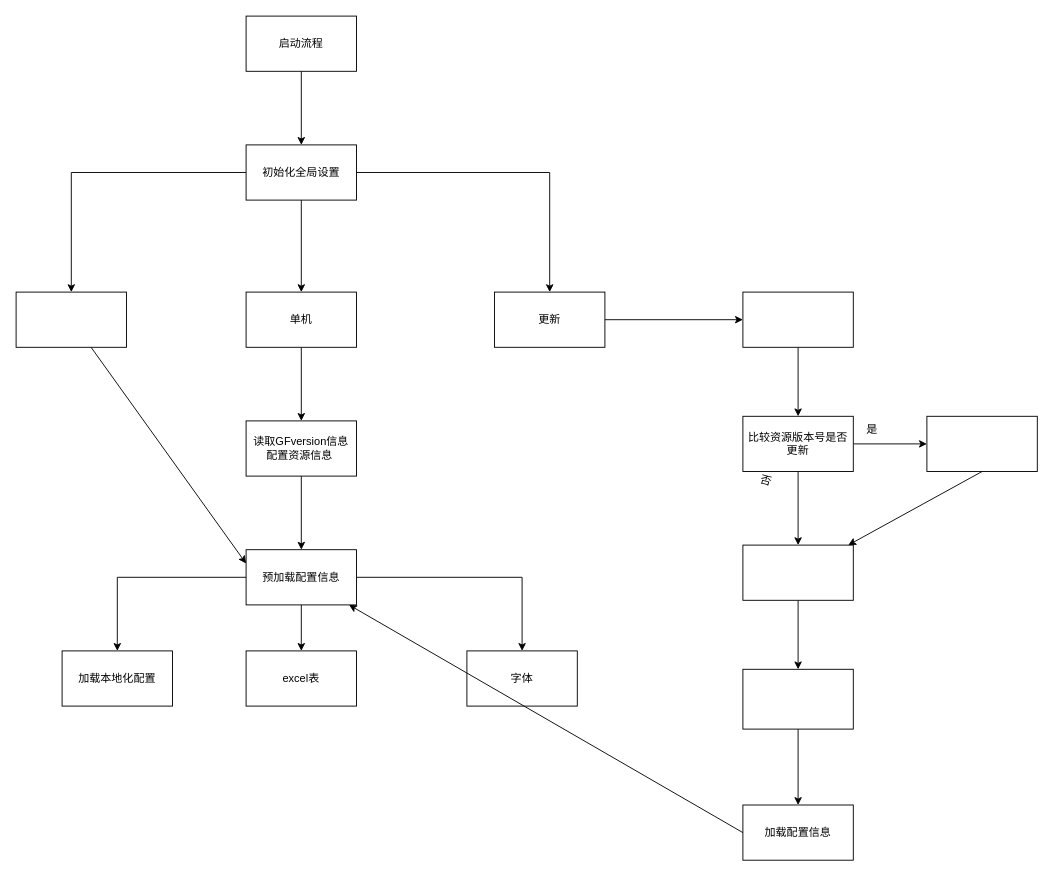
The diagram is 1053 pixels wide and 877 high, and some of its shapes have lost their labels. Each missing label, with the centre of its shape:
"下载服务器版本信息" belongs at pixel 797 319.
"加载本地，persist,服务器versionlist ，更新versionlist" belongs at pixel 797 572.
"更新version 信息" belongs at pixel 981 443.
"更新资源" belongs at pixel 797 698.
"编辑器" belongs at pixel 70 319.
